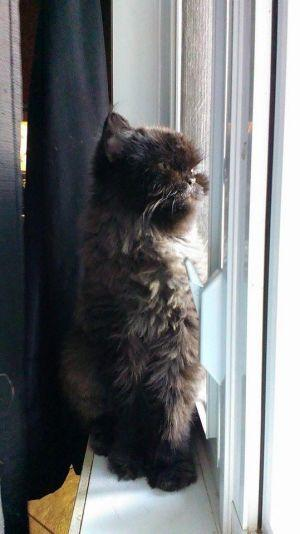persian: (78, 104, 217, 243)
